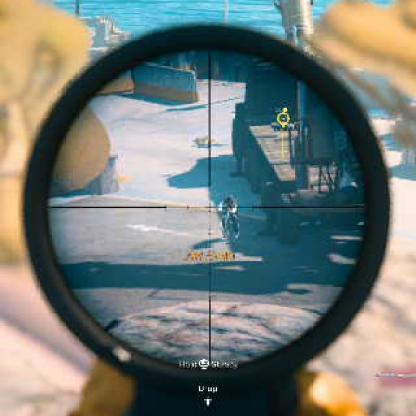enemy: (216, 194, 240, 240)
